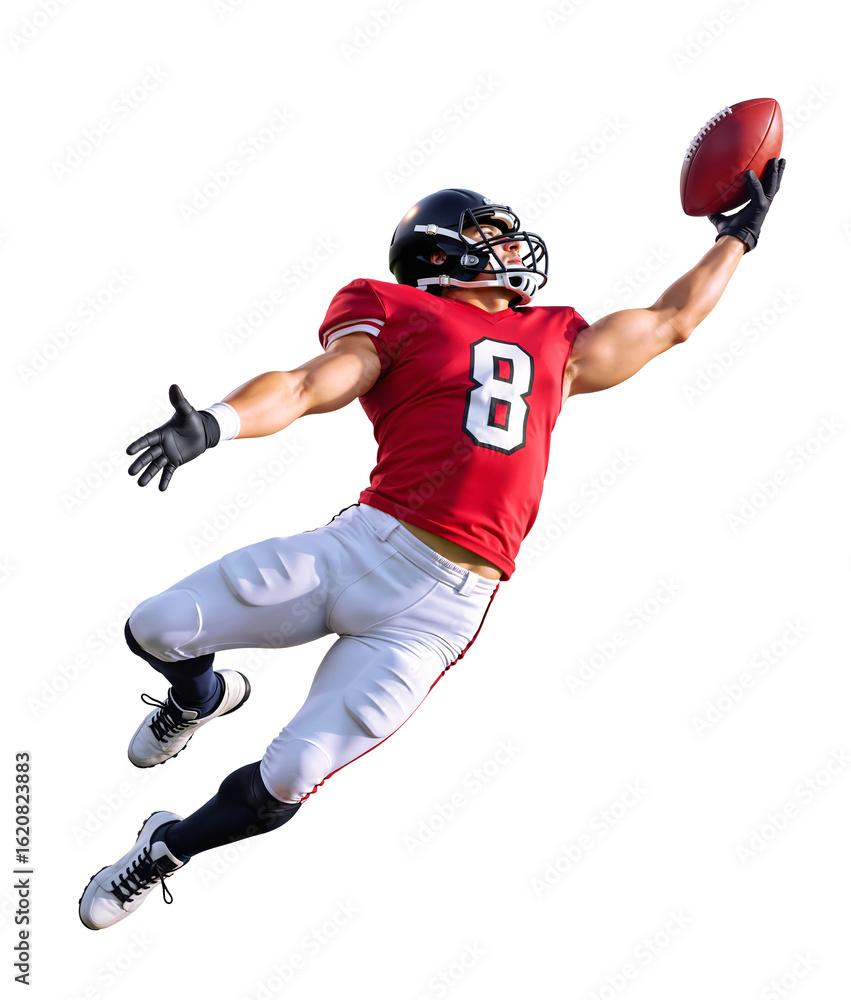americanFootball: (674, 94, 786, 216)
